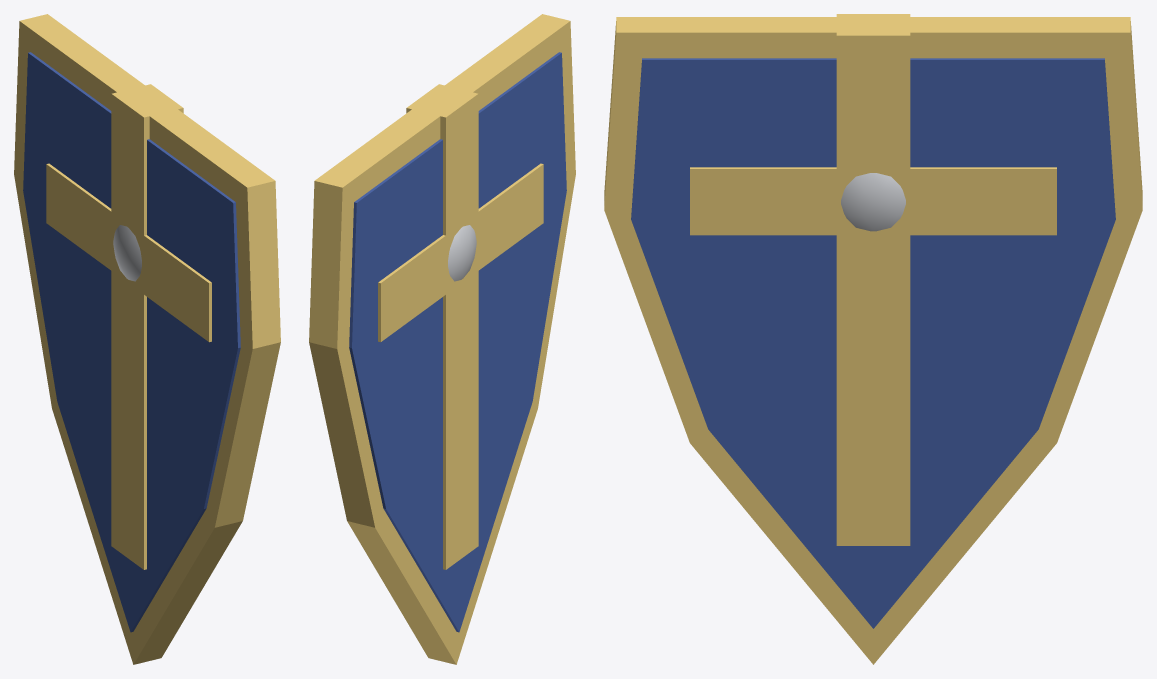
Rendered from SM_Paladin_Shield.glb.
3 views of the same model, side by side, from view 1: azimuth 30°, elevation 25°; view 2: azimuth 150°, elevation 25°; view 3: azimuth 270°, elevation 25° (orthographic). The views are drawn at different scales.
Parts seen in each view (by area): view 1: SM_Paladin_Shield; view 2: SM_Paladin_Shield; view 3: SM_Paladin_Shield.
Part boxes in pixels (<box>): SM_Paladin_Shield: <box>14,14,280,664</box>; SM_Paladin_Shield: <box>309,14,575,664</box>; SM_Paladin_Shield: <box>604,14,1142,664</box>.
Bounding box in the file's own units: 0.052 × 0.57 × 0.44.
